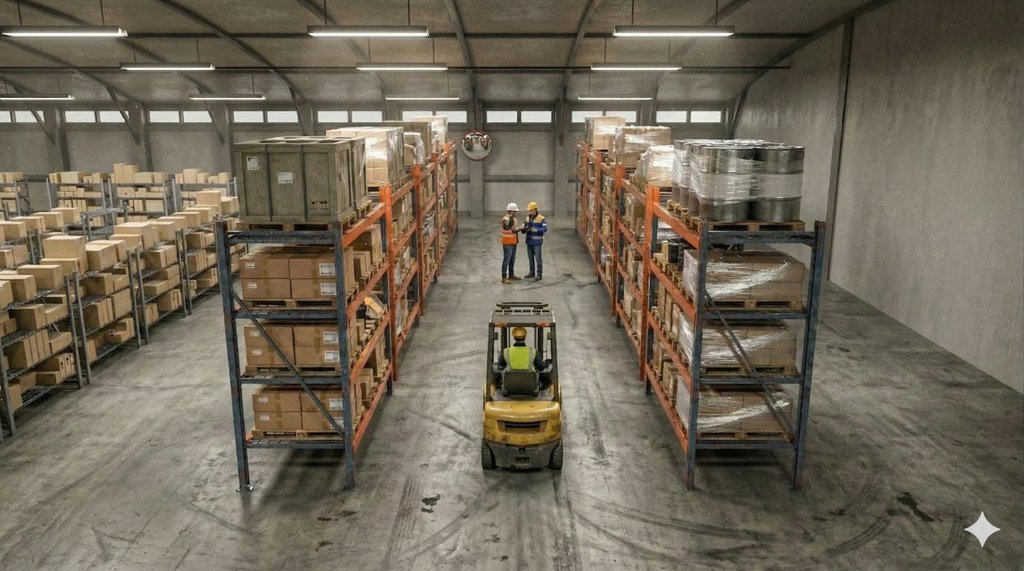forklift: (477, 299, 593, 479)
person: (502, 325, 553, 391), (524, 198, 558, 291), (494, 198, 524, 289)
safety_helmet: (507, 325, 536, 344), (529, 202, 546, 218), (506, 201, 525, 214)
safety_vest: (527, 216, 547, 257), (504, 342, 536, 365), (501, 217, 516, 247)
